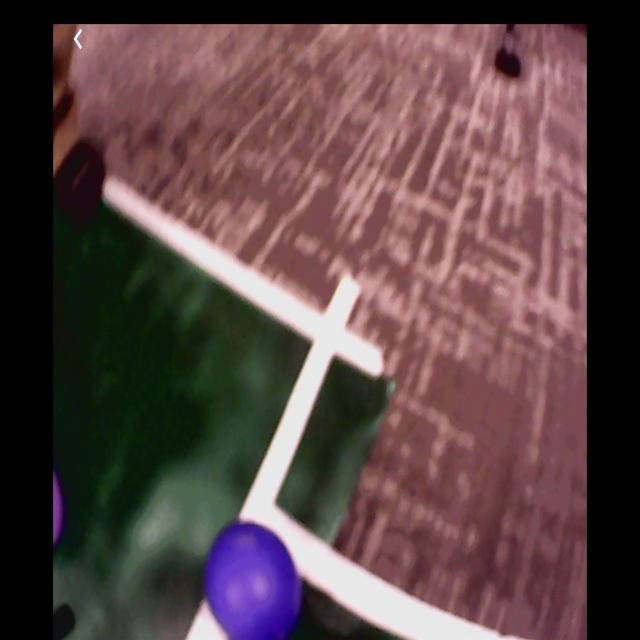ball: (204, 522, 303, 637), (54, 462, 64, 544)
